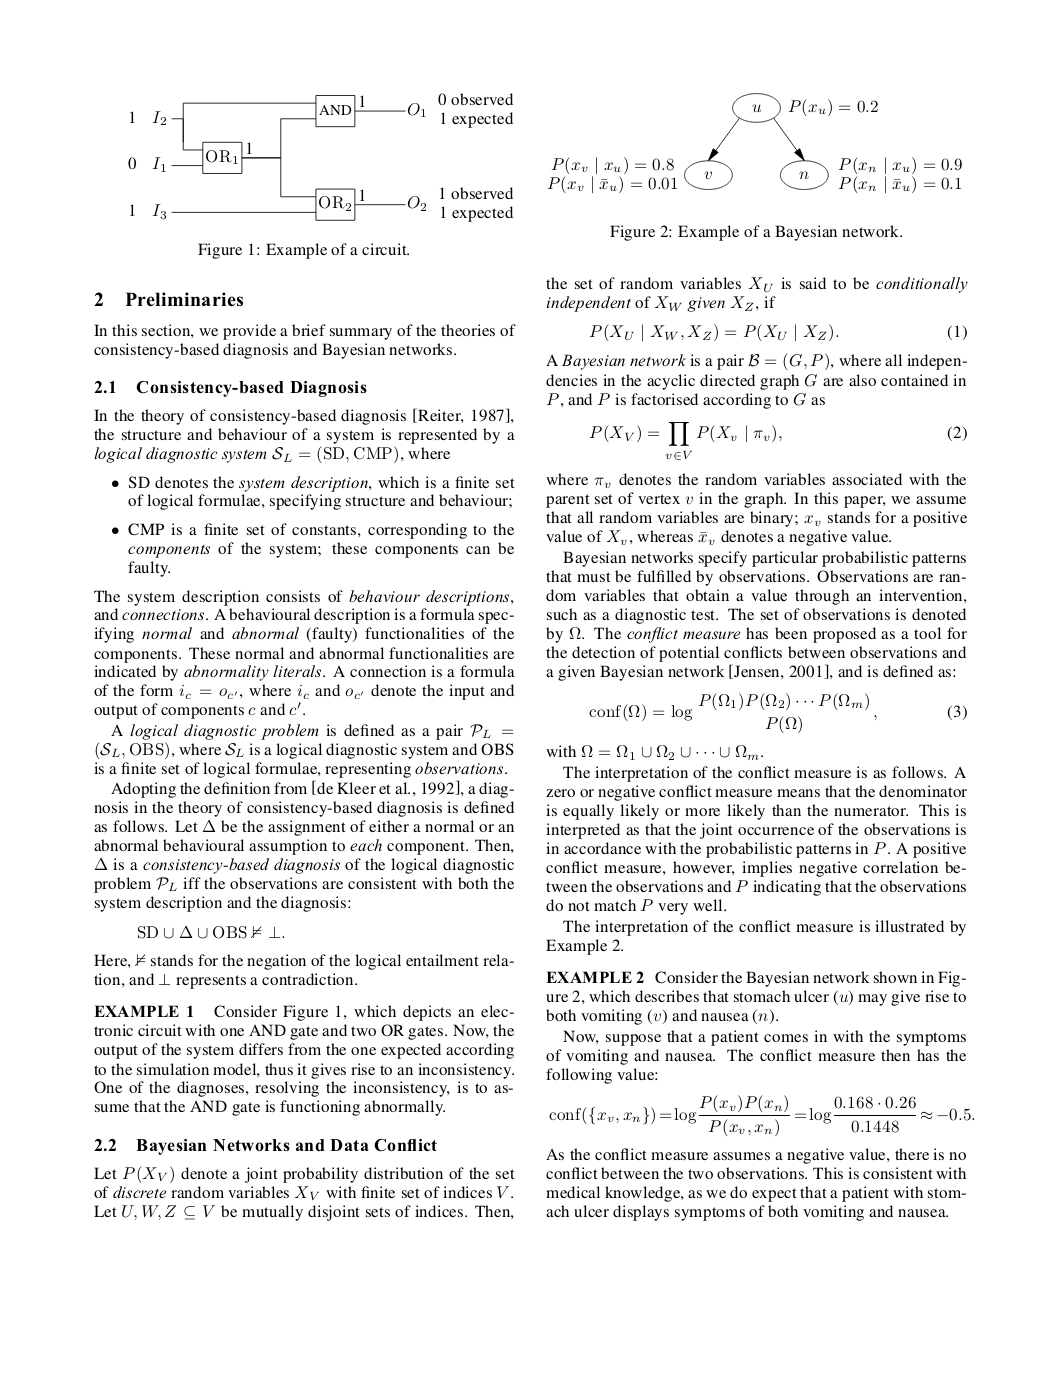figure: (128, 92, 513, 222), (547, 92, 961, 194)
formula: (549, 1094, 974, 1137), (588, 692, 966, 734), (588, 422, 966, 459), (588, 323, 966, 342), (138, 925, 284, 939)
